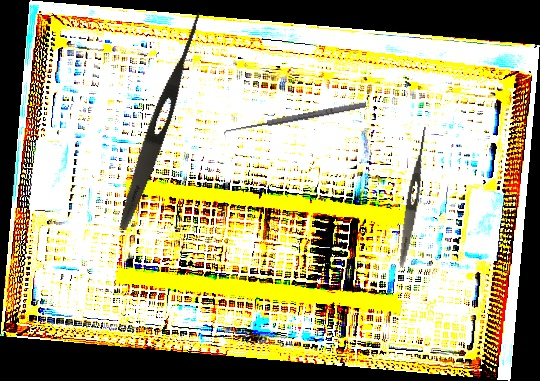Dressing Forceps: (113, 8, 208, 233), (395, 123, 431, 269)
Hook Surgical: (222, 99, 369, 142)
